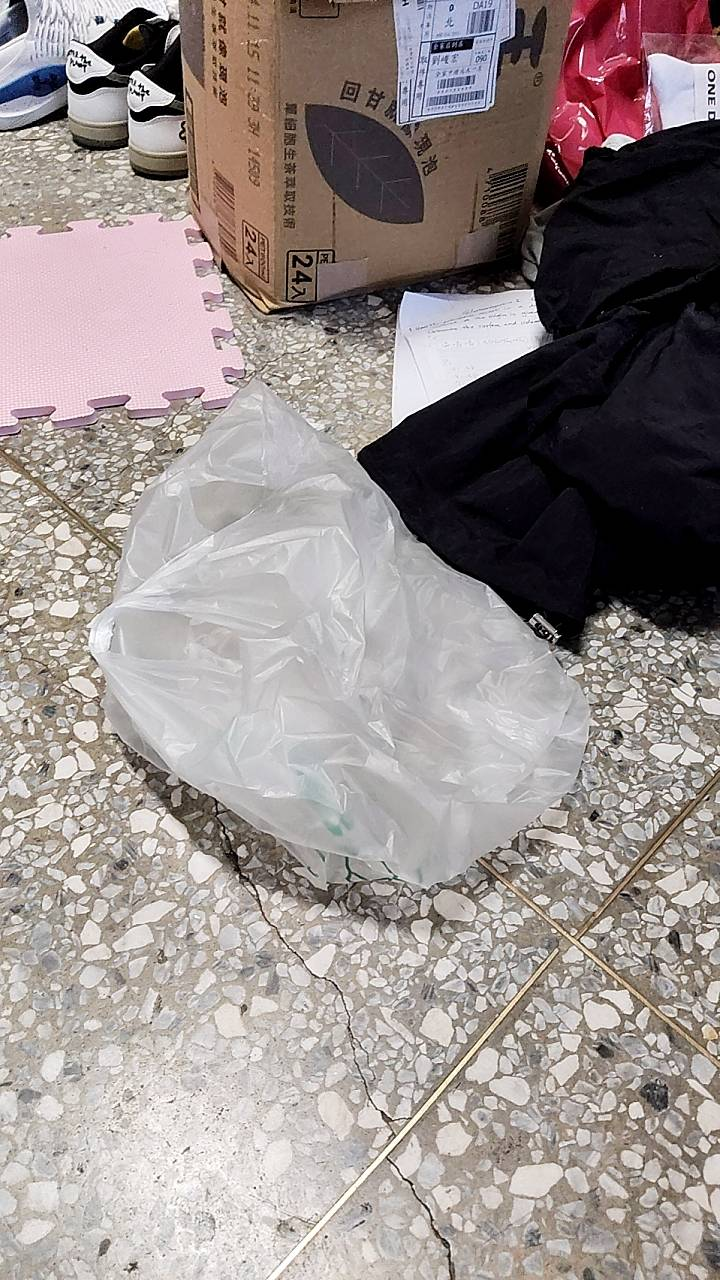paper: (147, 0, 592, 345), (368, 255, 575, 482)
plastic: (55, 350, 638, 962)
